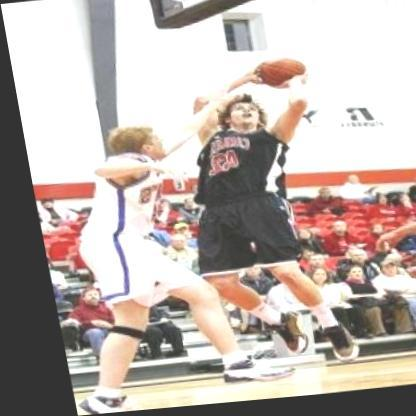basketball: (253, 58, 305, 95)
